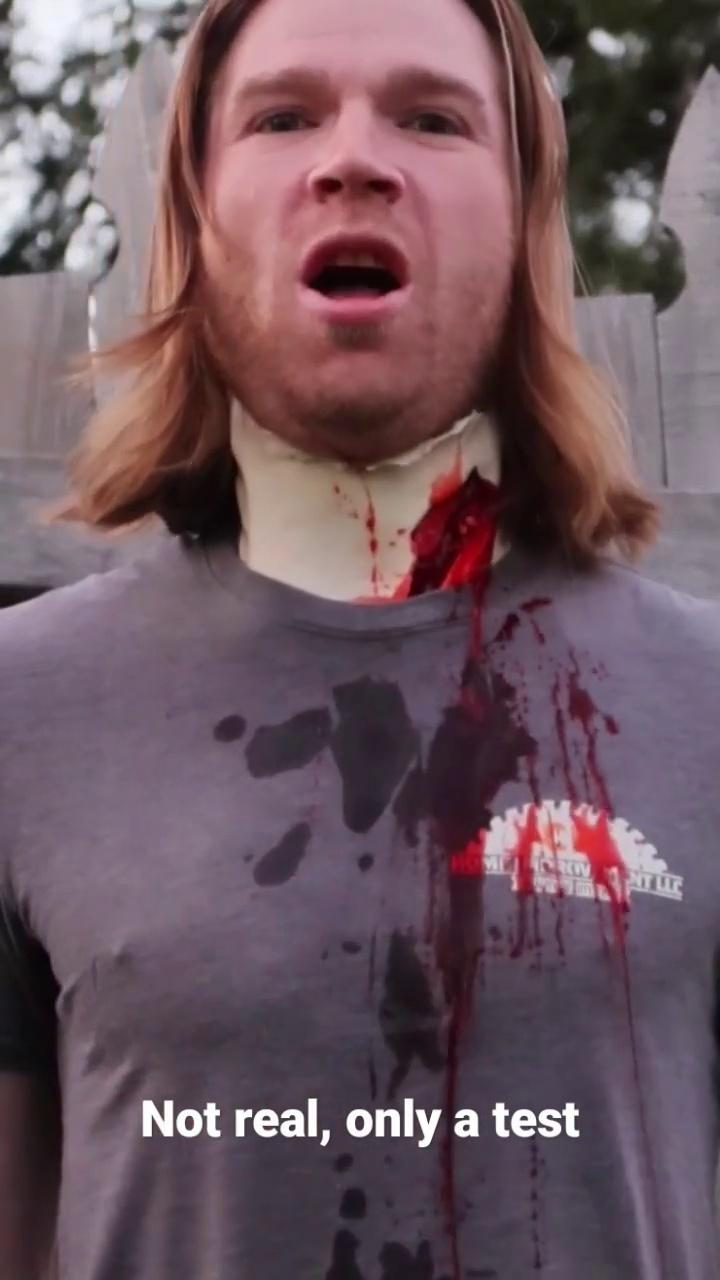Fire: (360, 459, 681, 1280)
